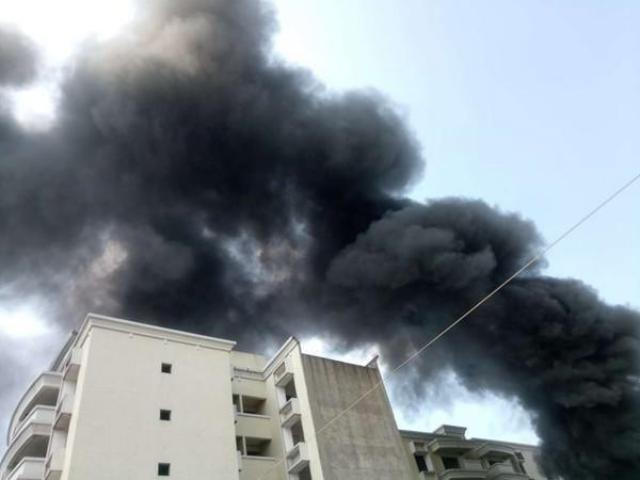smoke: (17, 133, 267, 237), (68, 56, 248, 130), (466, 286, 612, 372), (252, 95, 368, 180), (530, 373, 630, 469), (320, 286, 466, 350), (417, 206, 523, 288), (120, 247, 228, 323), (314, 200, 411, 284), (142, 6, 274, 66), (227, 243, 313, 323), (2, 34, 40, 84), (379, 128, 408, 178)
